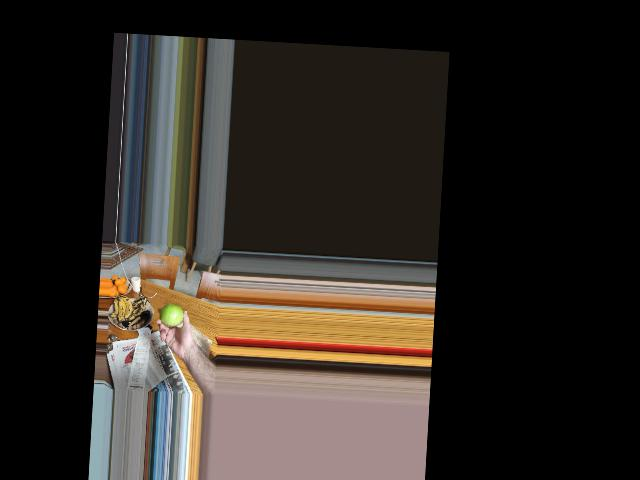apple: (159, 302, 183, 327)
